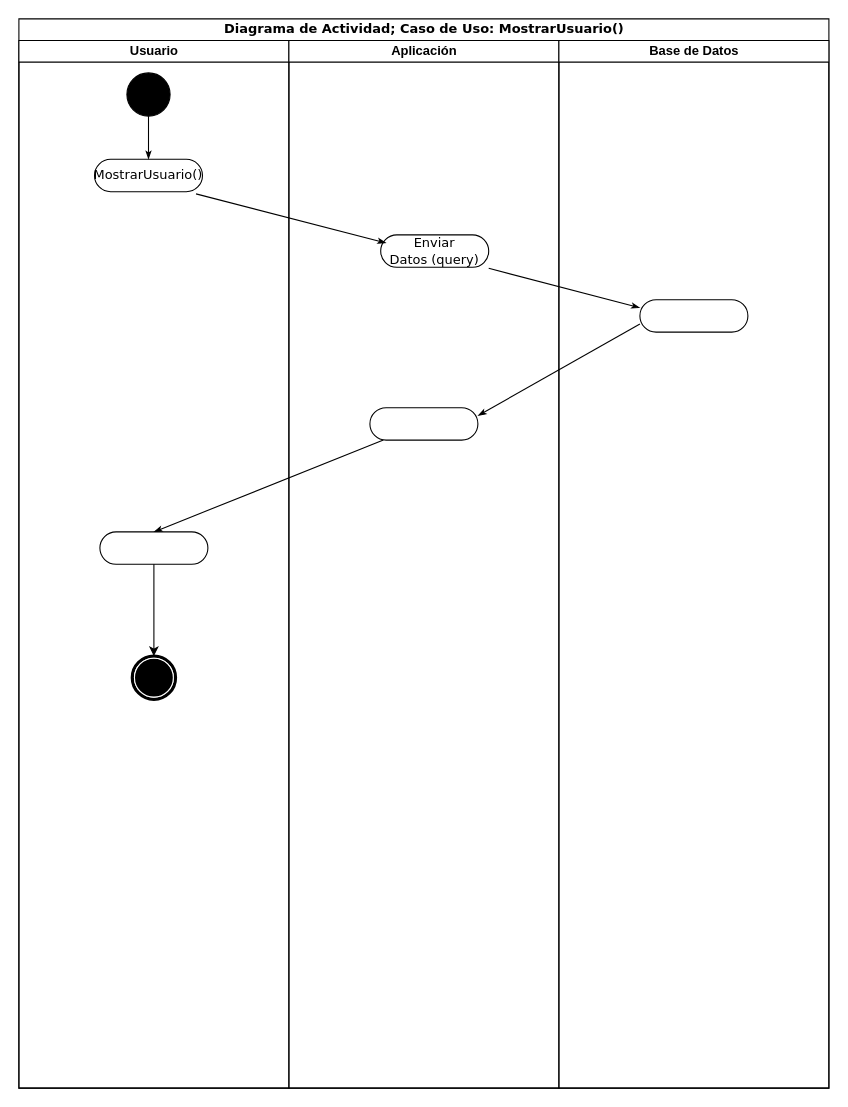
Some shapes in this 848 by 1107 pixel diagram are drawn without their labels. Here are the shapes that lost their labels. From the top down, the box of each, then its label:
(639, 299, 748, 332): Enviar Tabla
(369, 407, 478, 440): CargarAgregar UsuarioForm()
(99, 531, 208, 564): Mostrar Lista de Usuario
